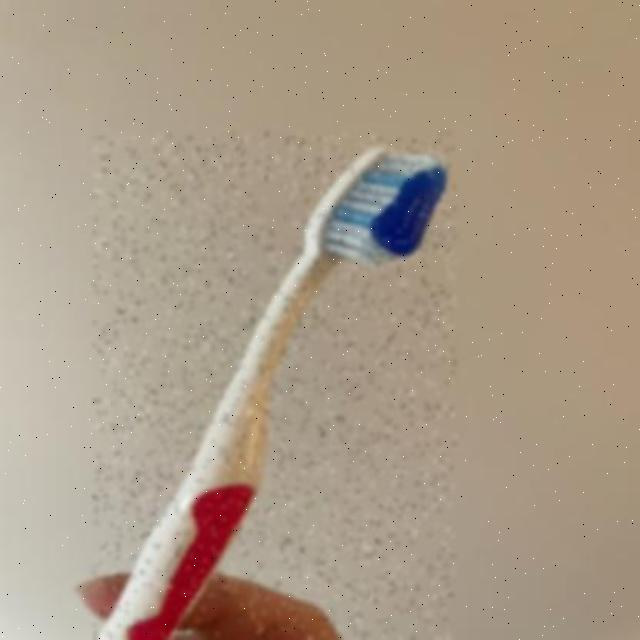toothbrush: (94, 132, 456, 640)
